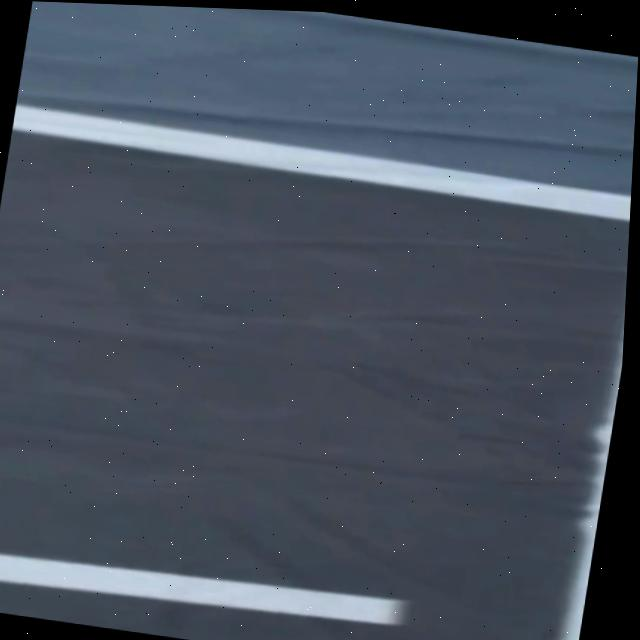center: (0, 551, 407, 624)
left: (12, 103, 631, 219)
